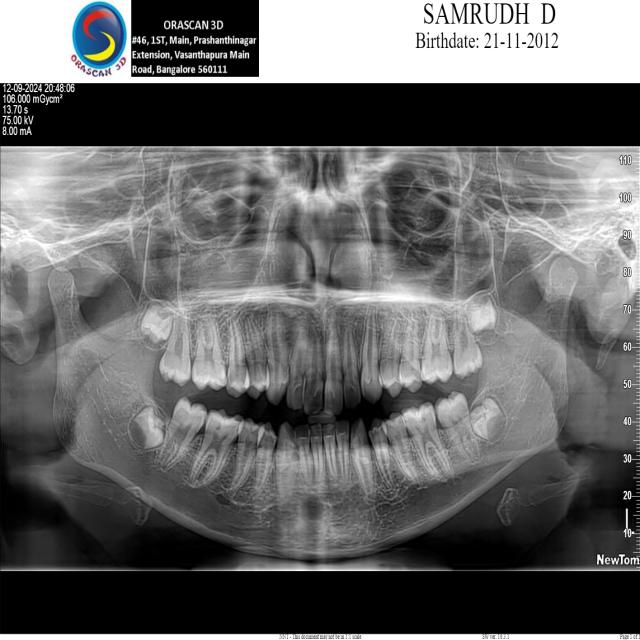Premolars: (381, 410, 424, 490), (367, 418, 400, 493)
